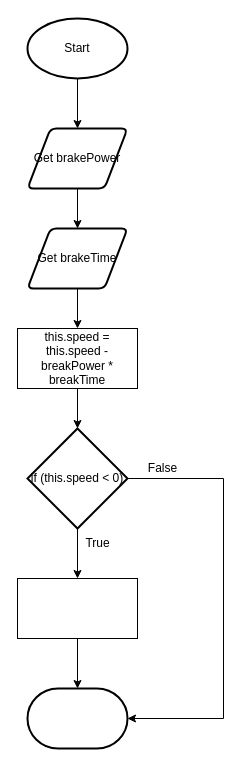
Some shapes in this 249 by 766 pixel diagram are drawn without their labels. The shapes that lost their labels are listed below. From the top down, each one's centre as x and y in pixels, then its label:
the point at 77,608: this.speed = 0
the point at 77,718: Stop
